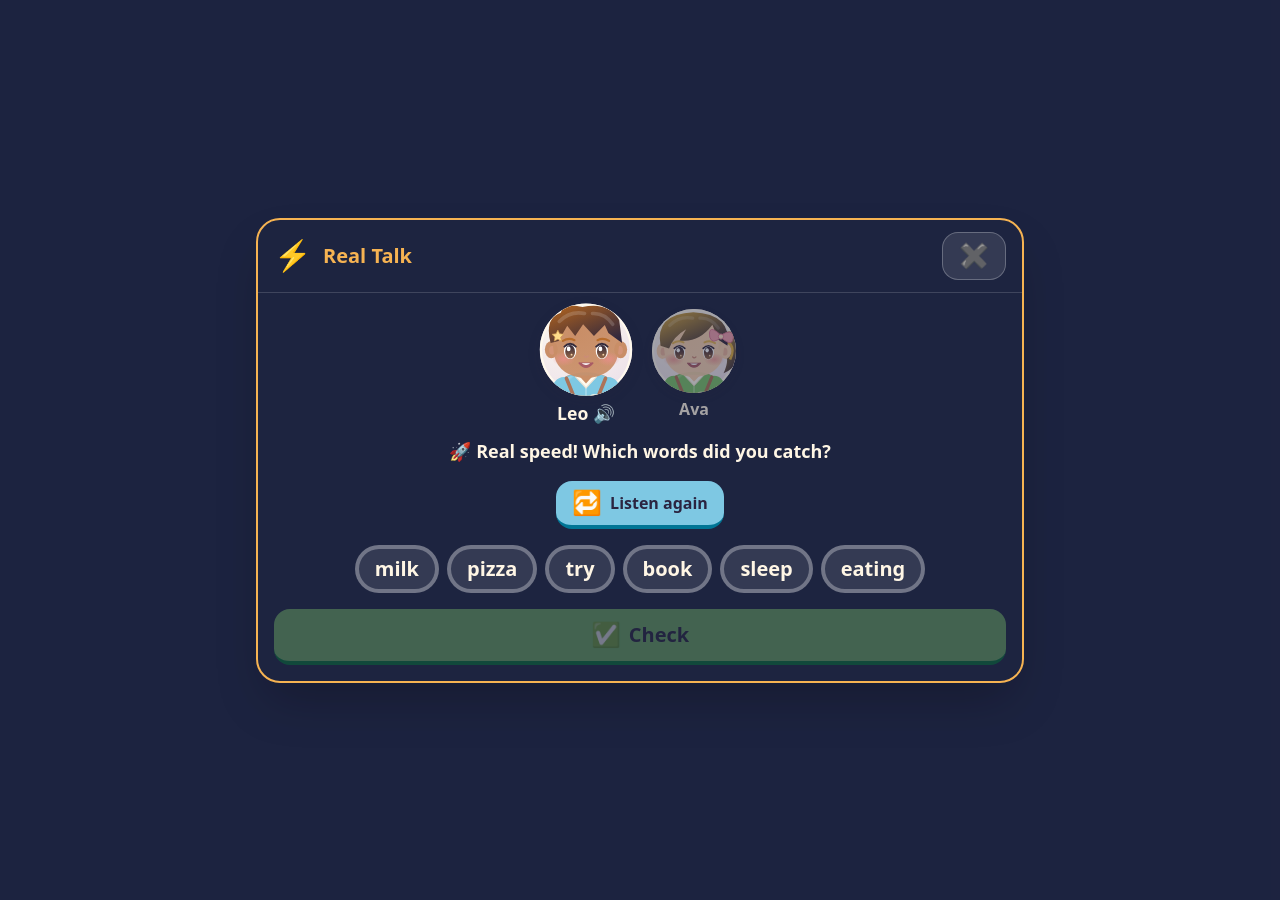
it: Real Talk › shows no text of the chat; catching the words pays XP and a badge
Click the button "eating" at (873, 568), box [821,544,925,592]
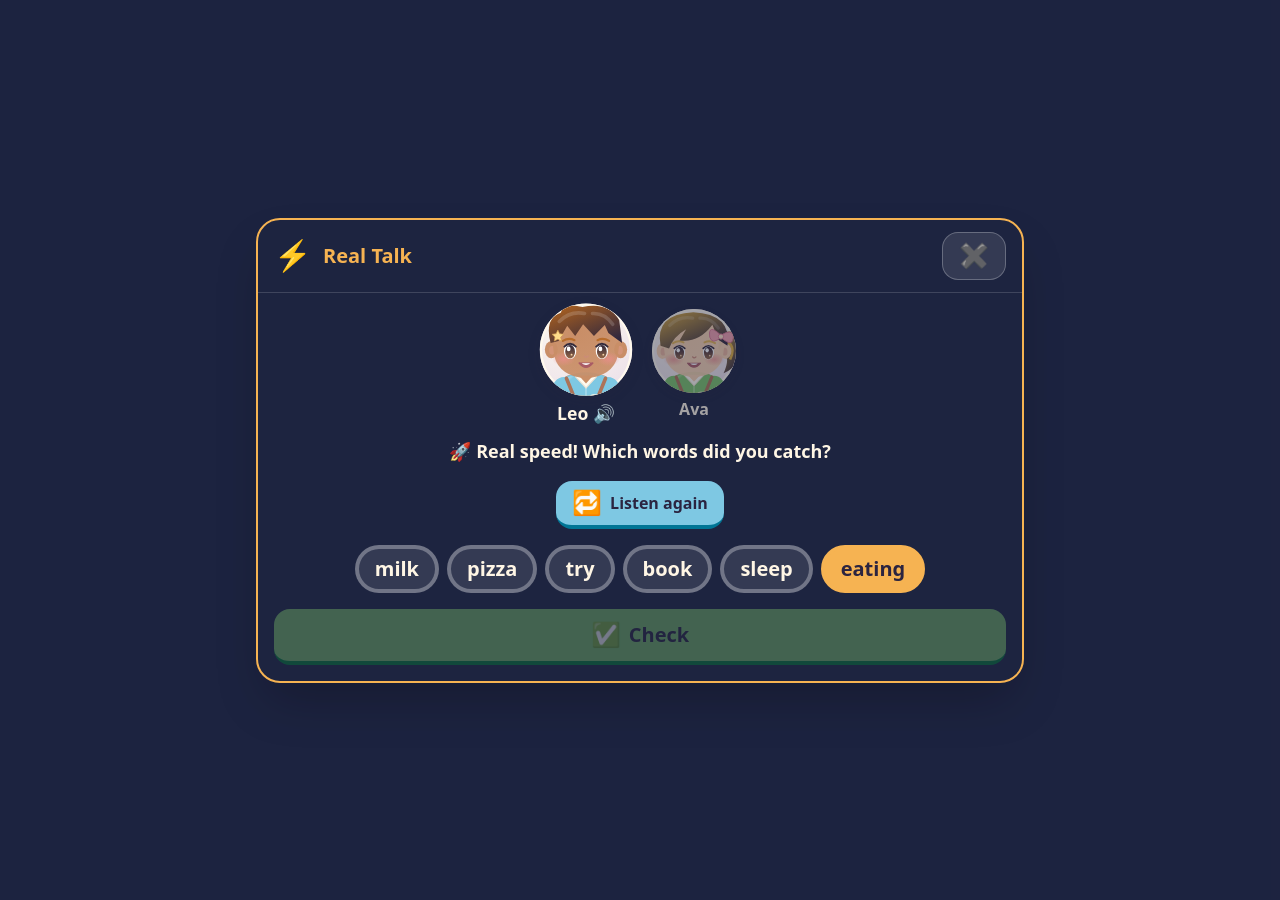
Click the button "pizza" at (492, 568), box [447,544,537,592]
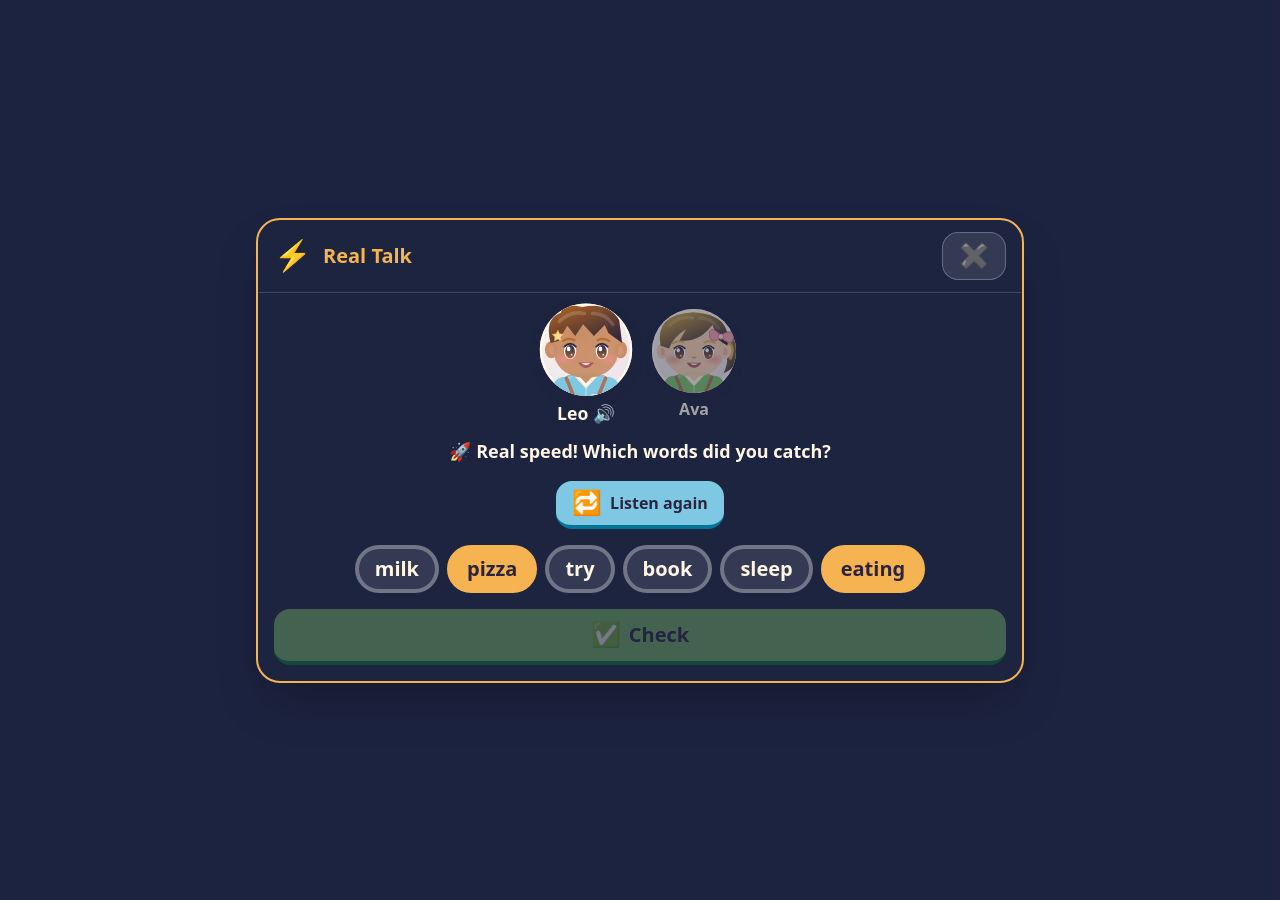
Click the button "try" at (580, 568), box [545,544,614,592]
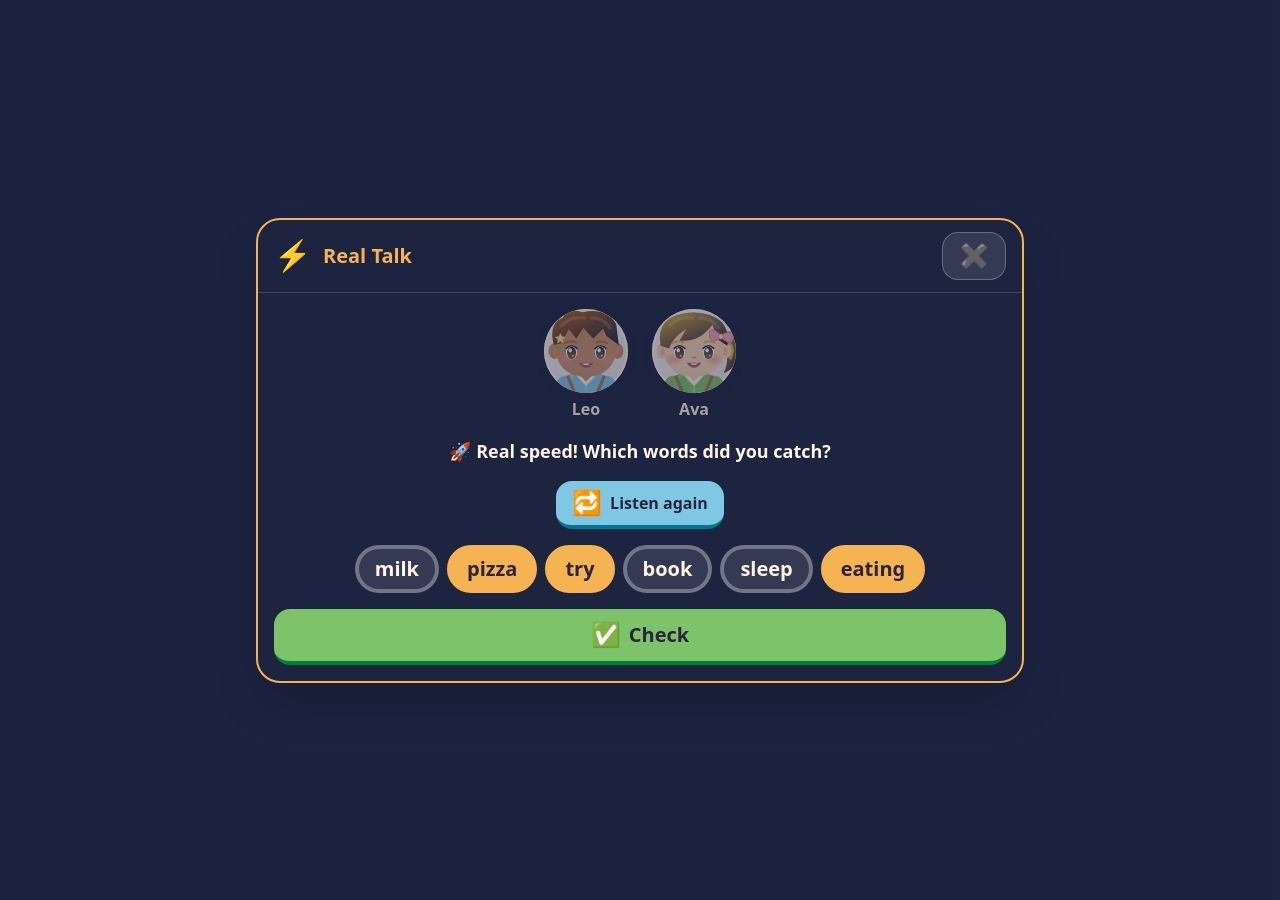
Now the button "✅ Check" is enabled
Click the button "✅ Check" at (640, 636), box [274,608,1006,664]
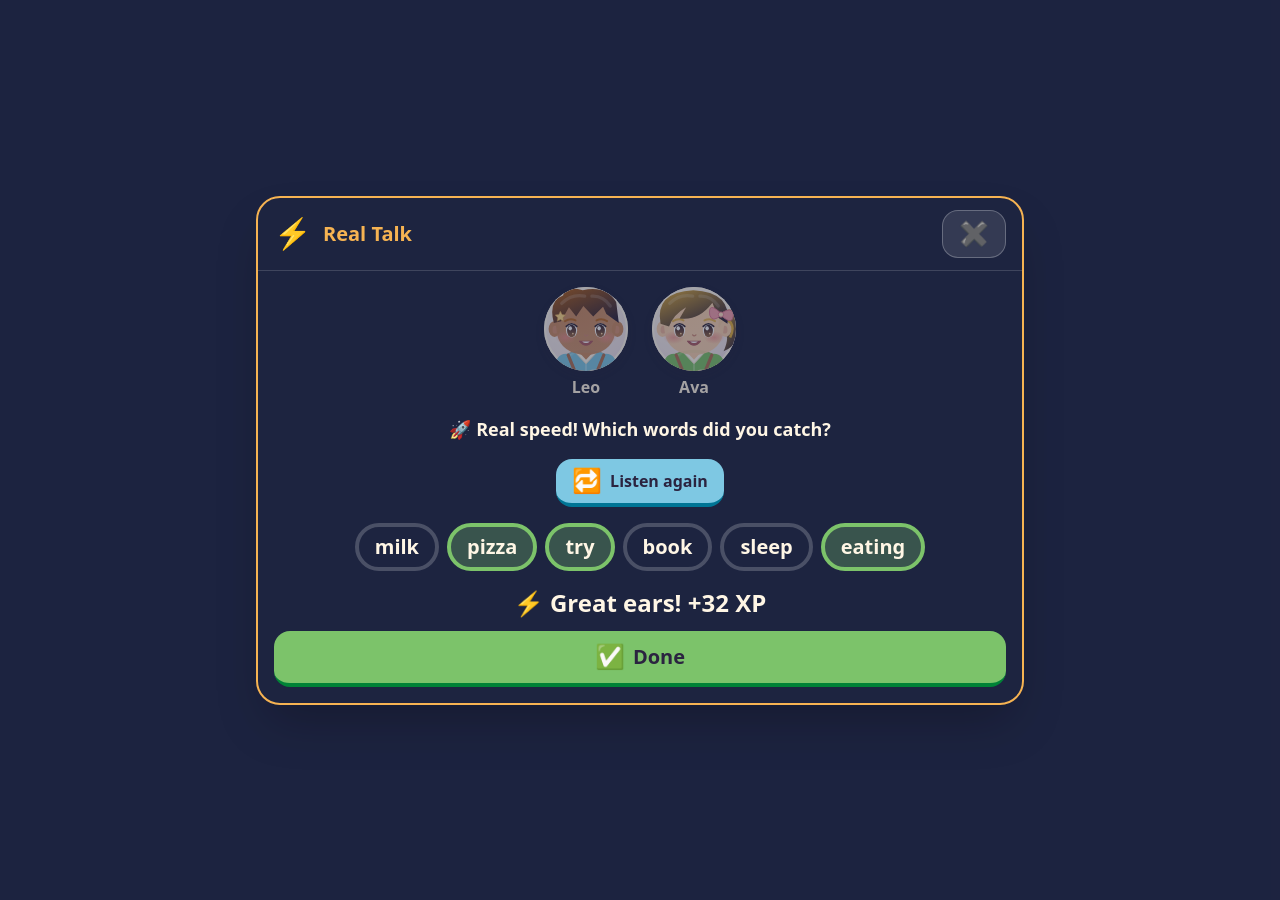
Now the text "⚡ Great ears! +32 XP" is shown, box [514,586,766,618]
